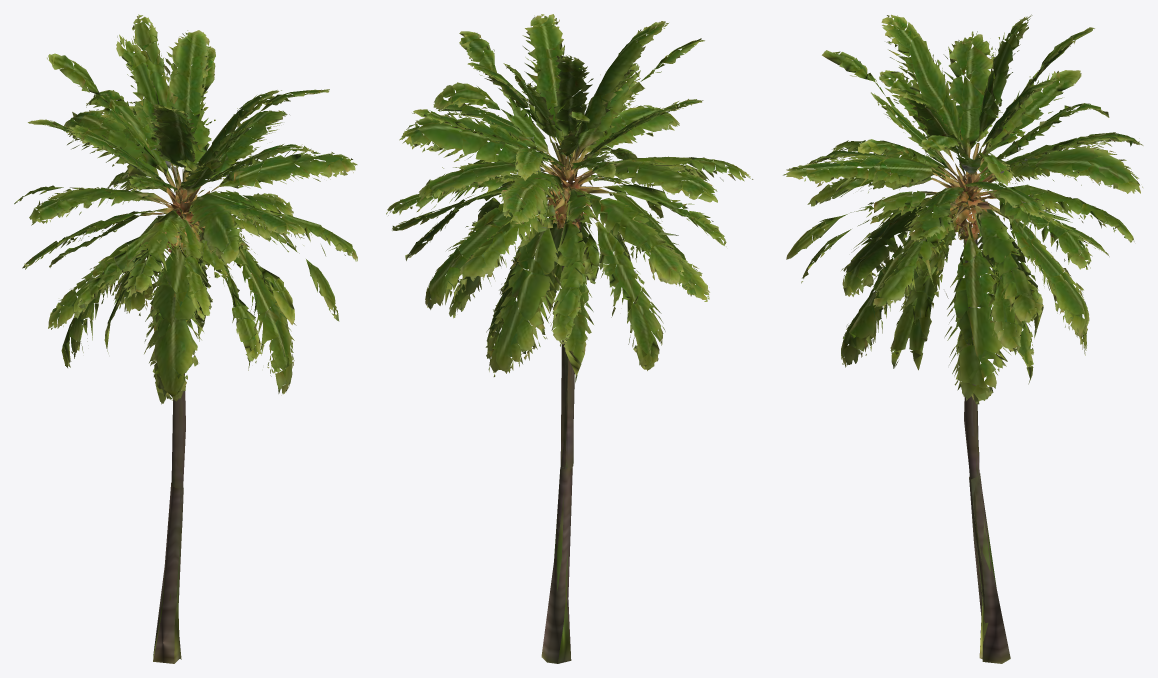
Rendered from palm_b_p.glb.
3 renders of one model, left to right at view 1: azimuth 30°, elevation 25°; view 2: azimuth 150°, elevation 25°; view 3: azimuth 270°, elevation 25°, orthographic.
Parts seen in each view (by area): view 1: Mesh_0; view 2: Mesh_0; view 3: Mesh_0.
Part boxes in pixels (x1,y1,x2,y2): Mesh_0: (14, 14, 357, 663); Mesh_0: (386, 14, 753, 663); Mesh_0: (783, 14, 1143, 663).
Size of the model in its own units: 0.9691 by 1.9 by 0.9879.
1 material, 1 textured.
